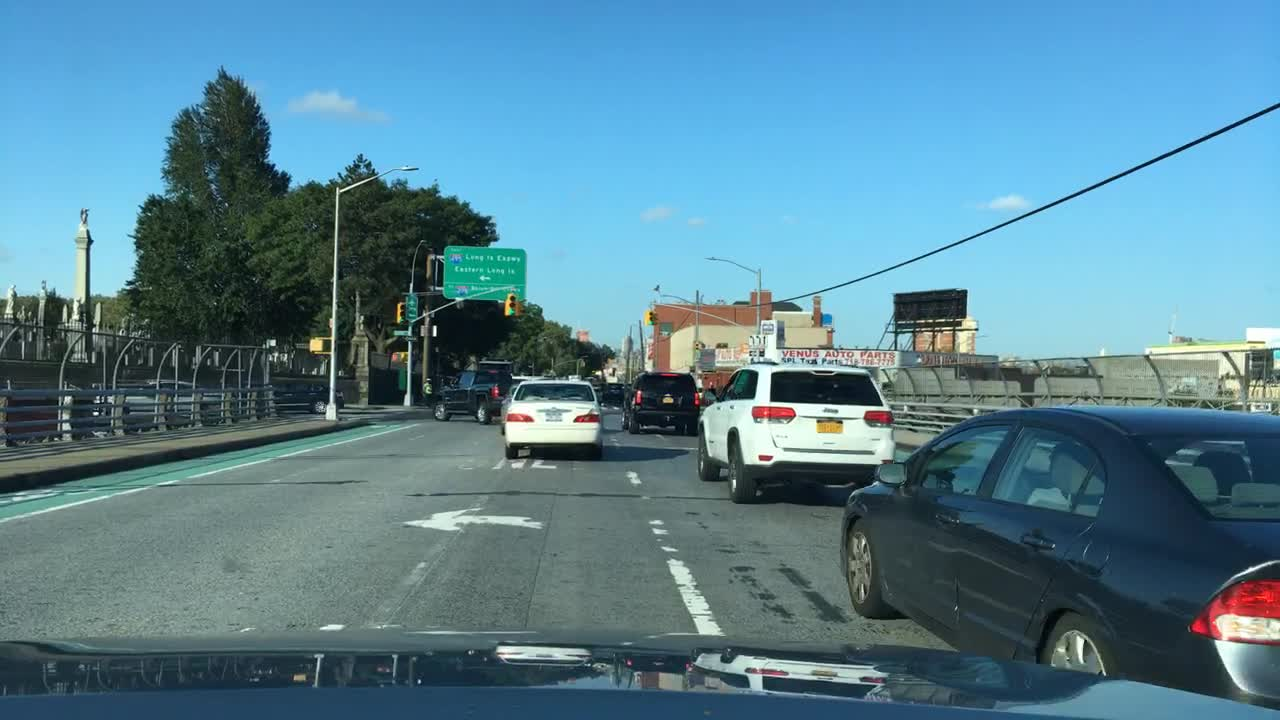car: (838, 407, 1277, 712), (694, 358, 902, 500), (500, 377, 605, 460), (92, 376, 236, 421), (619, 363, 703, 436), (229, 379, 346, 416), (496, 383, 521, 435), (594, 380, 626, 405)
traffic light: (504, 291, 517, 316), (396, 301, 407, 325), (308, 338, 324, 354), (643, 310, 655, 325), (515, 297, 524, 316), (391, 351, 404, 363), (652, 310, 659, 326), (693, 341, 700, 352)
traffic sign: (443, 244, 526, 301), (404, 294, 419, 320), (748, 333, 768, 347), (419, 323, 439, 336), (392, 329, 411, 336), (748, 349, 765, 356), (402, 333, 416, 341)
truck: (430, 367, 517, 424)
